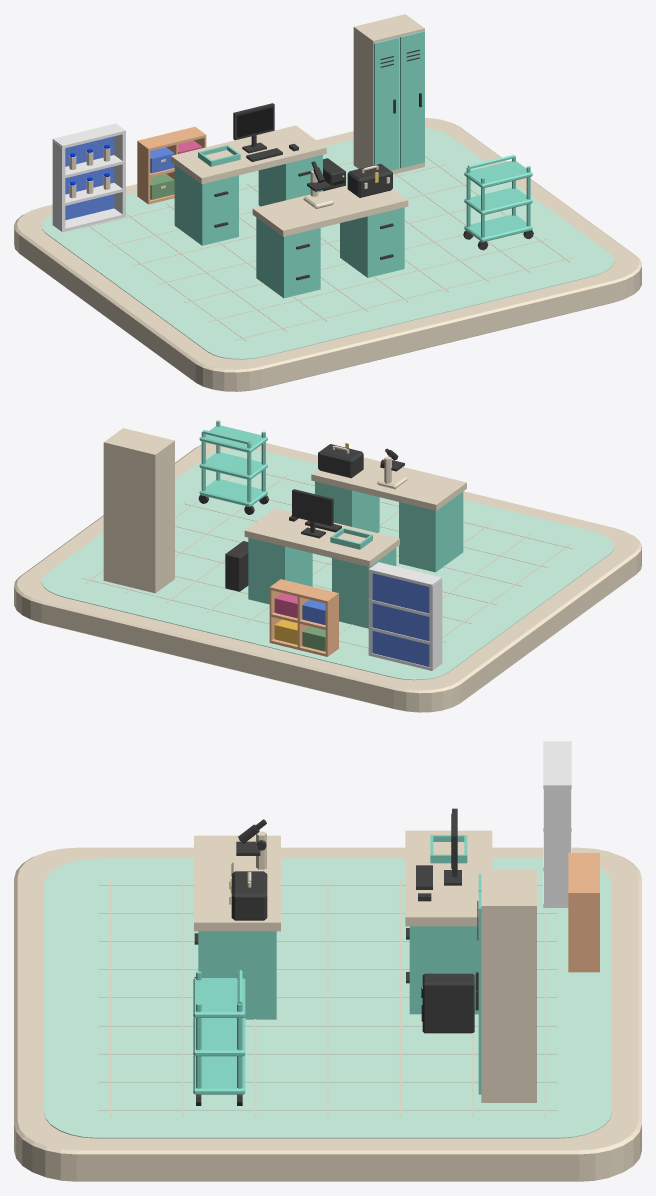
Rendered from room.fbx.
The picture shows the model from 3 angles, top to bottom: view 1: azimuth 30°, elevation 25°; view 2: azimuth 150°, elevation 25°; view 3: azimuth 270°, elevation 25°; orthographic projection. The views are drawn at different scales.
Parts seen in each view (by area): view 1: COM-02 Floor Surface, COM-01 Rounded Base Direct, Case.001, Worktop, Storage module.002, Storage module, Worktop.001, Storage module.001, Door.001, Door, Cabinet back, Storage module.003 (+14 smaller); view 2: COM-02 Floor Surface, COM-01 Rounded Base Direct, Case.001, Cabinet back, Storage module, Worktop.001, Worktop, Storage module.003, Storage module.002, Storage module.001, Frame, Case (+12 smaller); view 3: COM-02 Floor Surface, COM-01 Rounded Base Direct, Case.001, Worktop.001, Worktop, Storage module.001, Storage module.003, Tower, Clean supply cabinet side.001, Cubbies divider.002, Tray.002, Case (+10 smaller).
Part boxes in pixels (x1,y1,x2,y2): COM-02 Floor Surface: [41, 128, 614, 359]; COM-01 Rounded Base Direct: [14, 118, 641, 391]; Case.001: [353, 14, 424, 174]; Worktop: [252, 185, 408, 236]; Storage module.002: [174, 165, 238, 245]; Storage module: [256, 217, 320, 298]; Worktop.001: [171, 125, 326, 184]; Storage module.001: [340, 207, 404, 277]; Door.001: [400, 31, 424, 168]; Door: [374, 37, 398, 170]; Cabinet back: [65, 136, 114, 220]; Storage module.003: [258, 155, 322, 206]; COM-02 Floor Surface: [41, 448, 614, 680]; COM-01 Rounded Base Direct: [14, 442, 641, 712]; Case.001: [103, 428, 174, 593]; Cabinet back: [372, 573, 429, 666]; Storage module: [399, 492, 463, 572]; Worktop.001: [244, 508, 399, 566]; Worktop: [311, 457, 466, 510]; Storage module.003: [248, 537, 312, 604]; Storage module.002: [332, 548, 396, 628]; Storage module.001: [315, 481, 379, 532]; Frame: [292, 489, 333, 538]; Case: [318, 444, 363, 478]; COM-02 Floor Surface: [44, 858, 611, 1138]; COM-01 Rounded Base Direct: [14, 847, 641, 1181]; Case.001: [481, 870, 536, 1102]; Worktop.001: [405, 830, 492, 926]; Worktop: [194, 835, 280, 931]; Storage module.001: [198, 931, 276, 1019]; Storage module.003: [409, 926, 478, 1014]; Tower: [422, 973, 474, 1033]; Clean supply cabinet side.001: [544, 787, 570, 907]; Cubbies divider.002: [568, 893, 599, 972]; Tray.002: [193, 978, 245, 1017]; Case: [231, 871, 267, 920].
Size of the model in its own units: 600 by 210 by 520.
